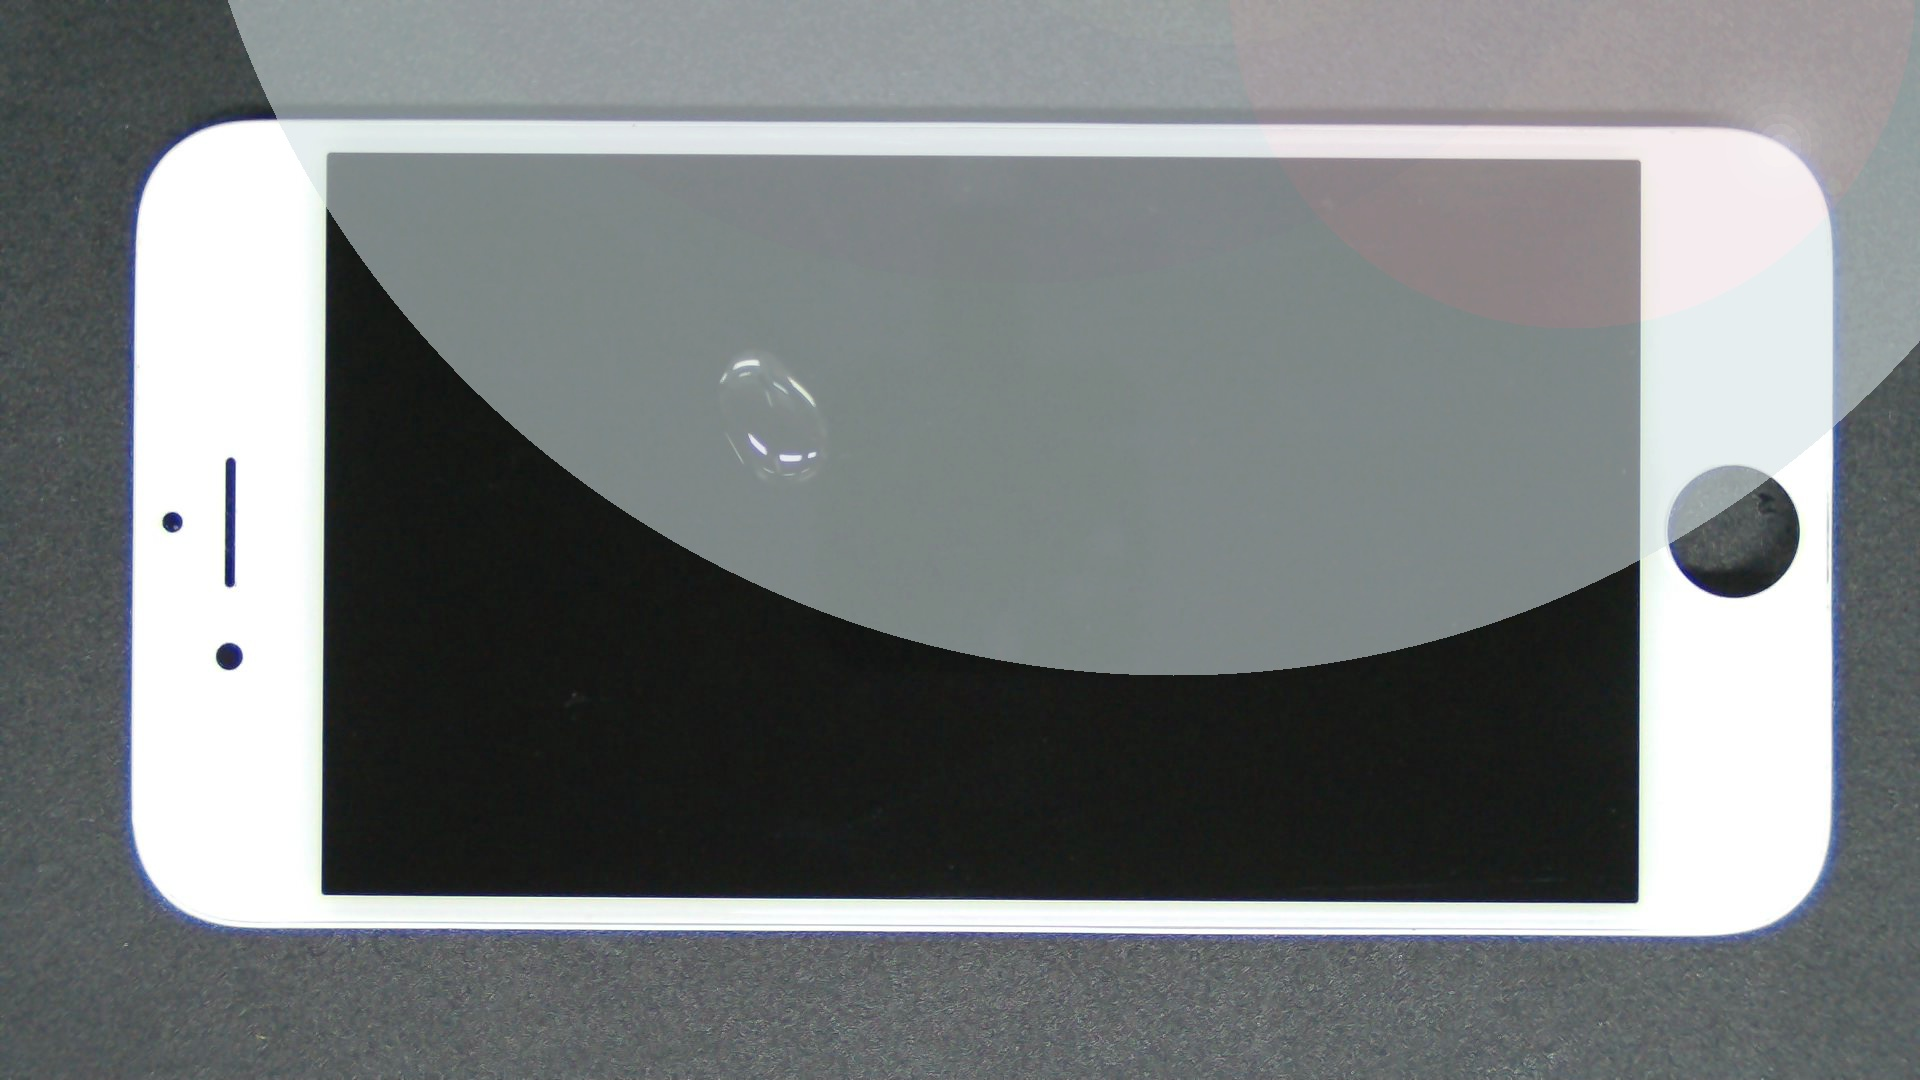oil: (377, 174, 1129, 522)
